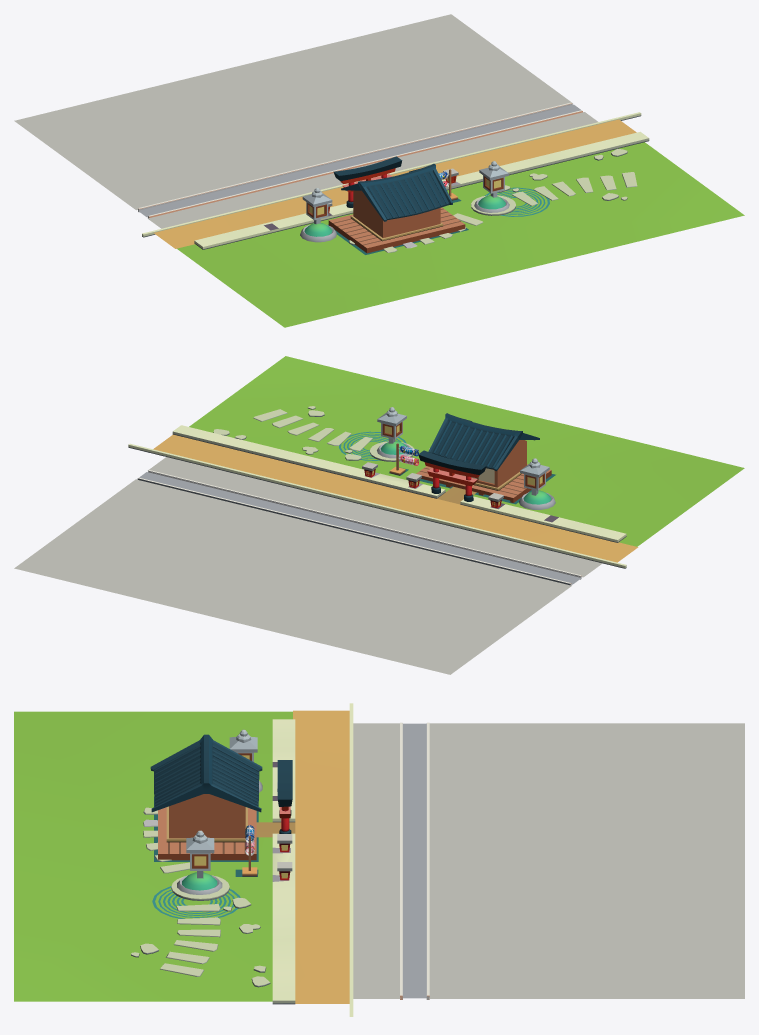
The model's file is Japan.fbx.
The picture shows the model from 3 angles, top to bottom: view 1: azimuth 30°, elevation 25°; view 2: azimuth 150°, elevation 25°; view 3: azimuth 270°, elevation 25°; orthographic projection. The views are drawn at different scales.
Visible parts, largest first — view 1: pasted__Plane.011, Block_001; view 2: pasted__Plane.011, Block_001; view 3: pasted__Plane.011, Block_001.
Part boxes in pixels (<box>): pasted__Plane.011: <box>14,14,597,228</box>; Block_001: <box>142,112,744,327</box>; pasted__Plane.011: <box>14,457,602,674</box>; Block_001: <box>128,356,744,568</box>; pasted__Plane.011: <box>353,722,744,999</box>; Block_001: <box>14,703,353,1016</box>.
Bounding box in the file's own units: 6995 × 801 × 6886.
